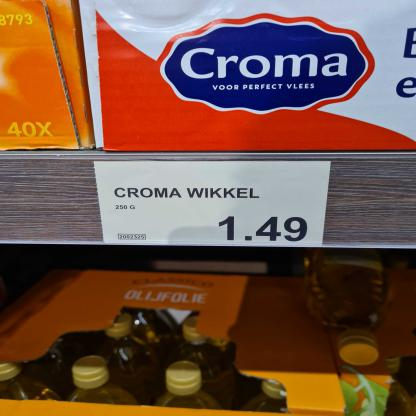prtg: (96, 162, 333, 247)
